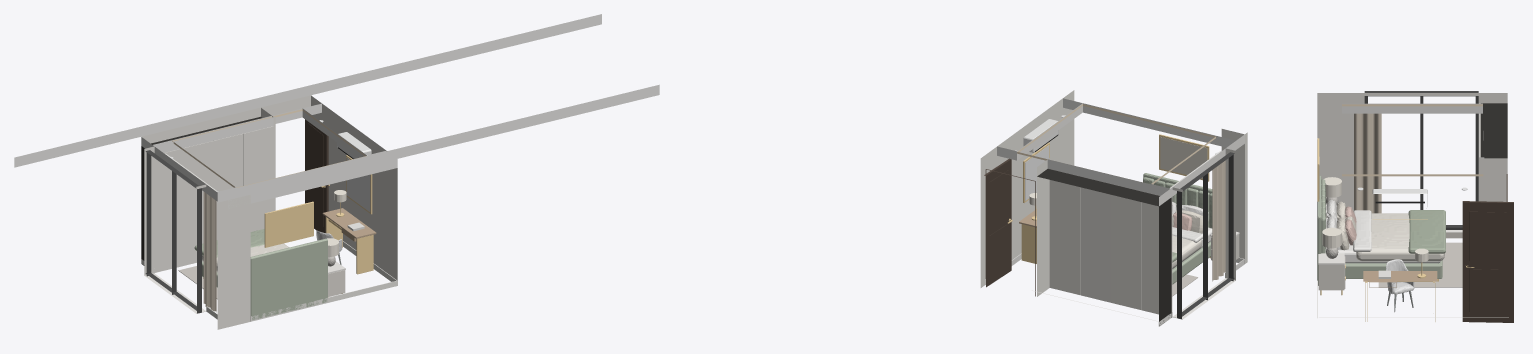
File: ROOM3.glb
3 views of the same model, side by side, from view 1: azimuth 30°, elevation 25°; view 2: azimuth 150°, elevation 25°; view 3: azimuth 270°, elevation 25° (orthographic). The views are drawn at different scales.
Parts seen in each view (by area): view 1: WEB_ROOM3; view 2: WEB_ROOM3; view 3: WEB_ROOM3.
Part boxes in pixels (x1,y1,x2,y2): WEB_ROOM3: (14,14,659,329); WEB_ROOM3: (980,90,1247,326); WEB_ROOM3: (1317,91,1513,322).
Bounding box in the file's own units: 12.09 × 2.9 × 3.27.
